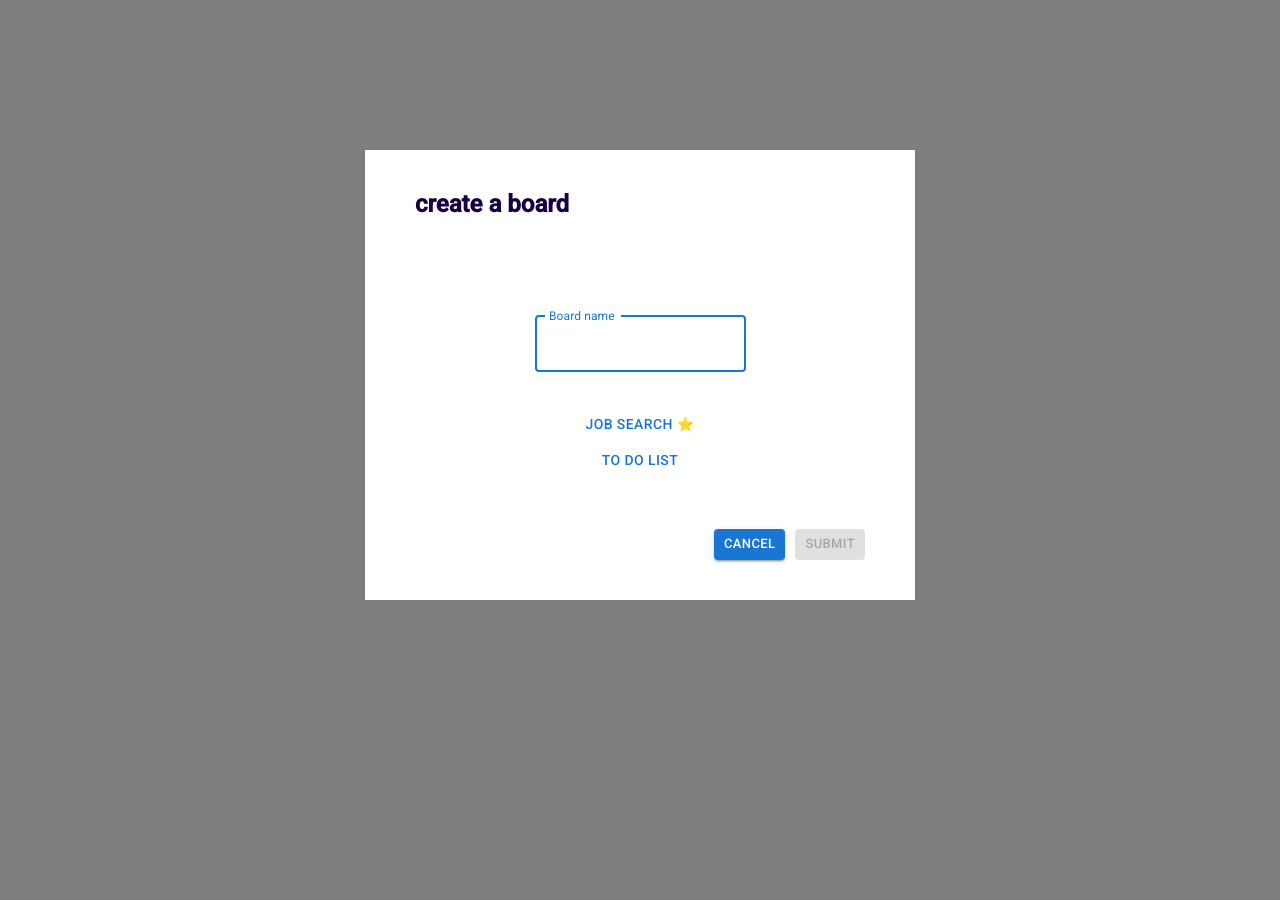
Scenario: CreateBoardModal › clears the title via the clear icon once text is present
Type "My Board" into the field at (640, 344), box left=534, top=316, right=746, bottom=372
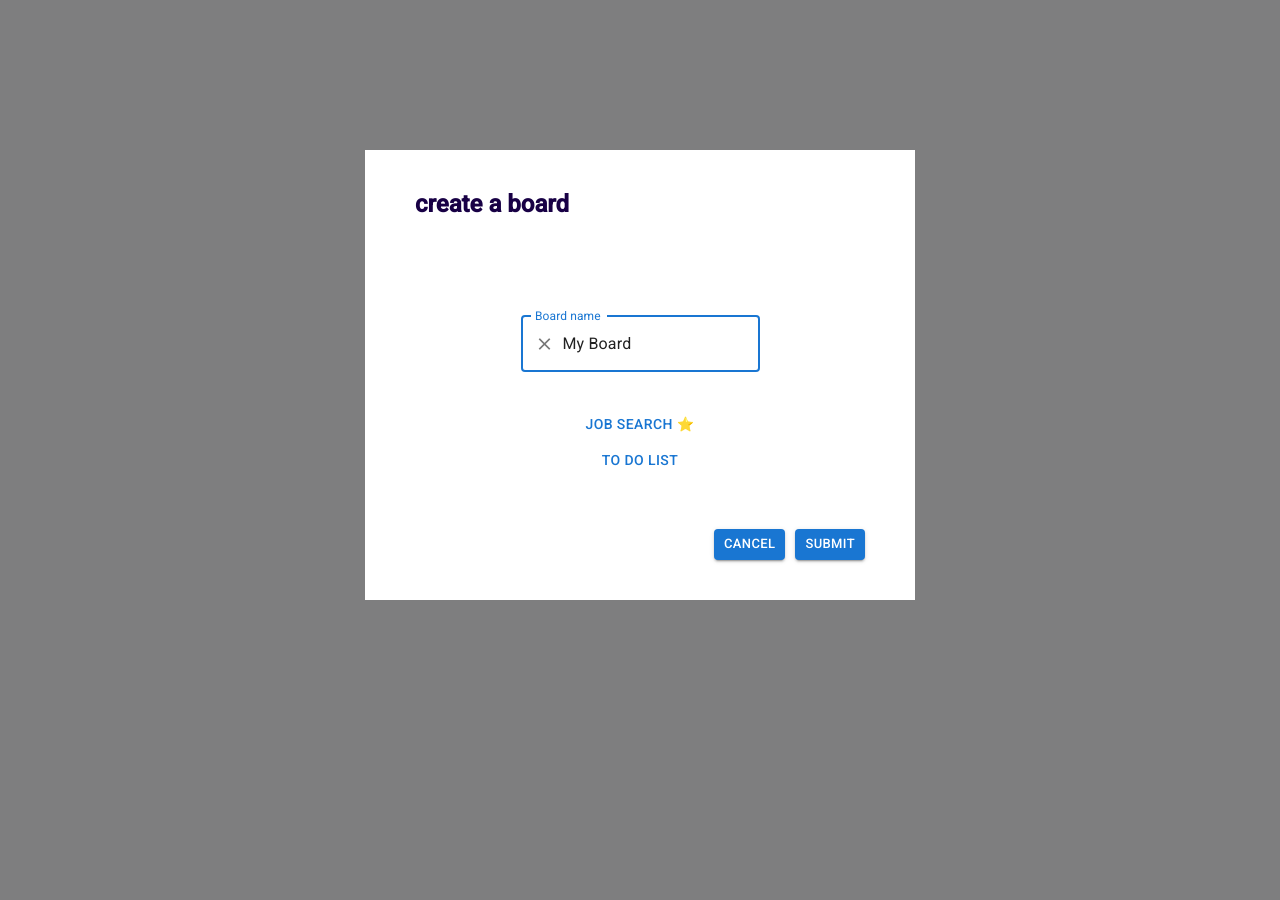
Check: the icon "clear" is shown
Click the icon "clear" at (544, 344), box left=534, top=334, right=554, bottom=354
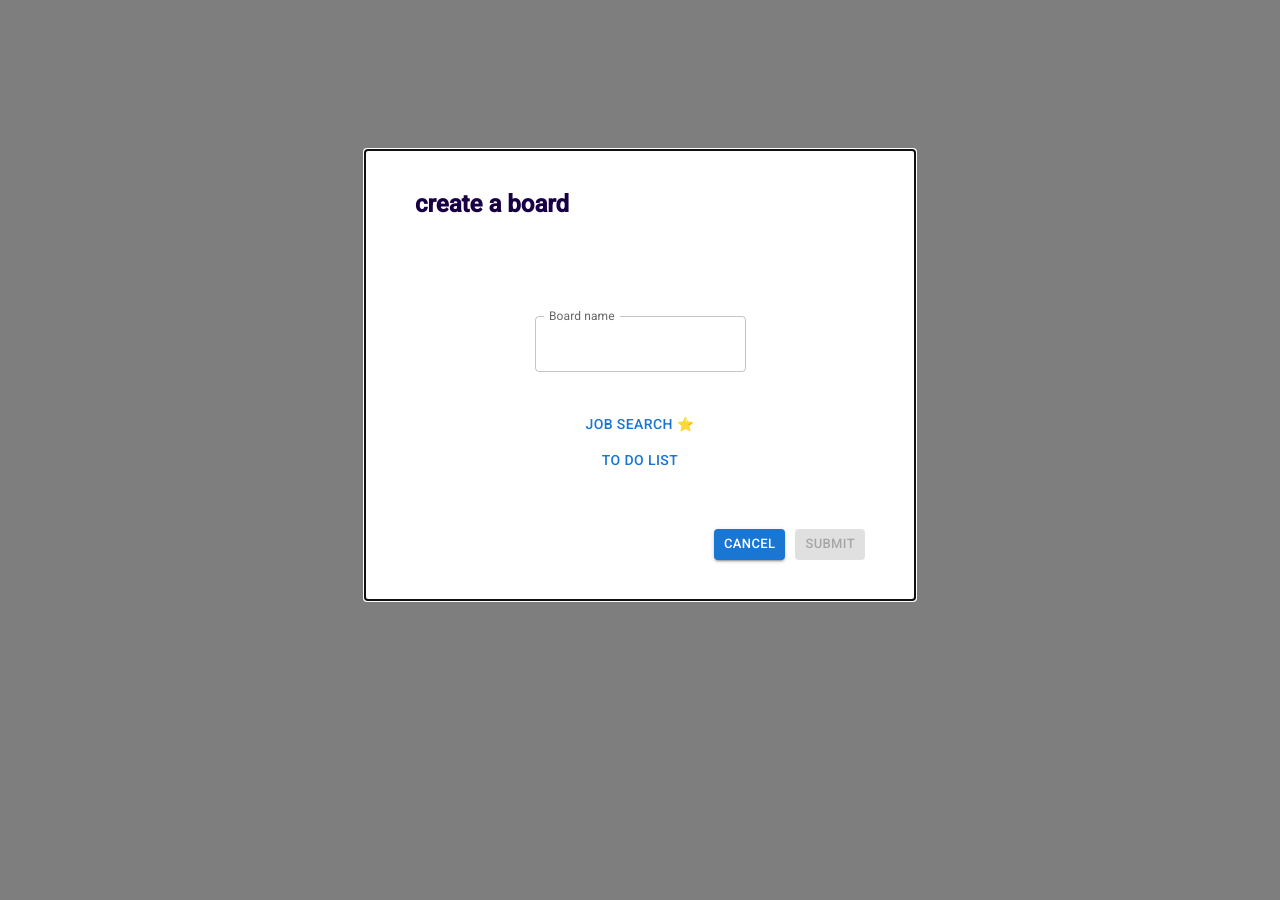
Check: the field is empty, box left=534, top=316, right=746, bottom=372
